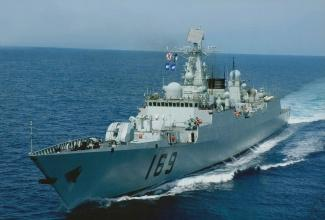warship: (27, 29, 292, 209)
